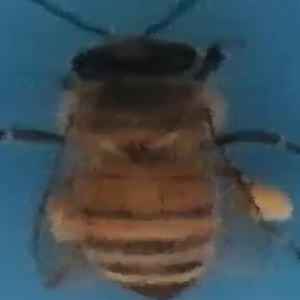bee: (30, 2, 295, 297)
